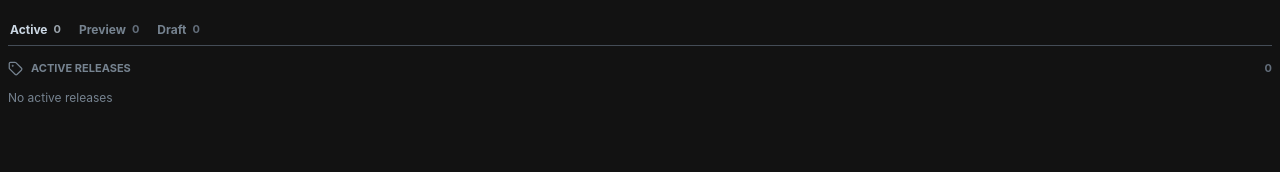
Scenario: has distinct empty states for active, preview, and draft tabs
Step 1. Click the tab "Preview 0" → (109, 29), box top-left (77, 12), bottom-right (141, 46)
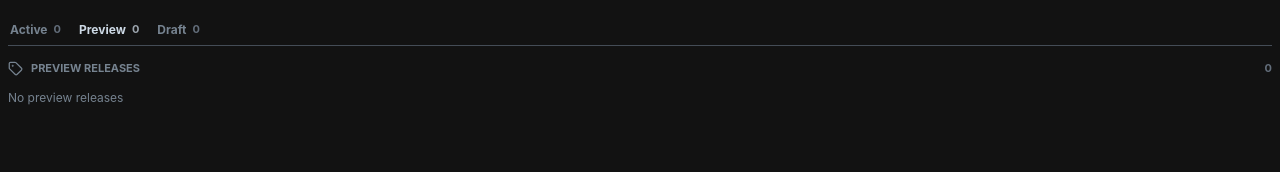
Expected: the text "No preview releases" is shown, top-left (8, 90), bottom-right (123, 105)
Step 2. Click the tab "Draft 0" → (179, 29), box top-left (155, 12), bottom-right (202, 46)
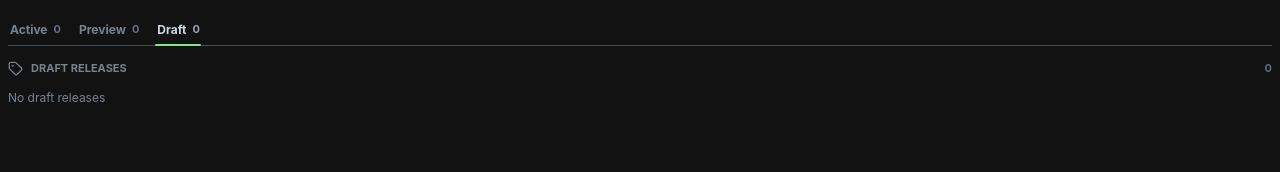
Expected: the text "No draft releases" is shown, top-left (8, 90), bottom-right (105, 105)
